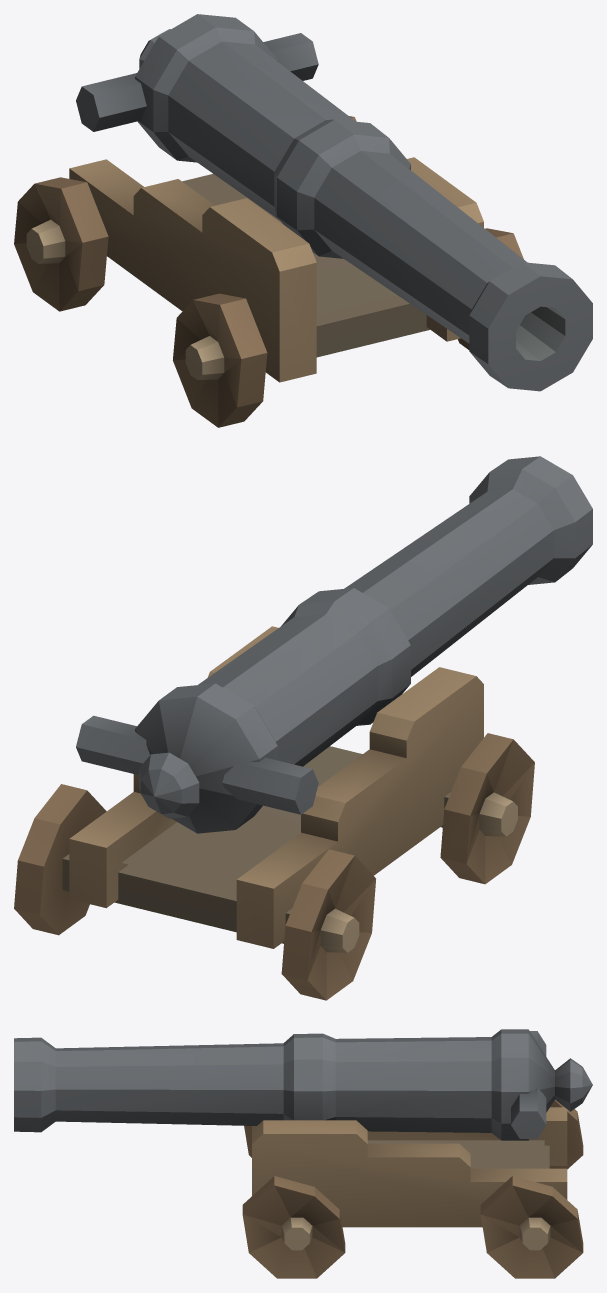
Rendered from cannon.glb.
The picture shows the model from 3 angles, top to bottom: view 1: azimuth 30°, elevation 25°; view 2: azimuth 150°, elevation 25°; view 3: azimuth 270°, elevation 25°; orthographic projection. The views are drawn at different scales.
Parts seen in each view (by area): view 1: cannon; view 2: cannon; view 3: cannon.
Part boxes in pixels (x1,y1,x2,y2): cannon: [14, 14, 592, 427]; cannon: [14, 456, 592, 1000]; cannon: [14, 1029, 592, 1278].
Bounding box in the file's own units: 1.11 × 0.8528 × 2.34.
